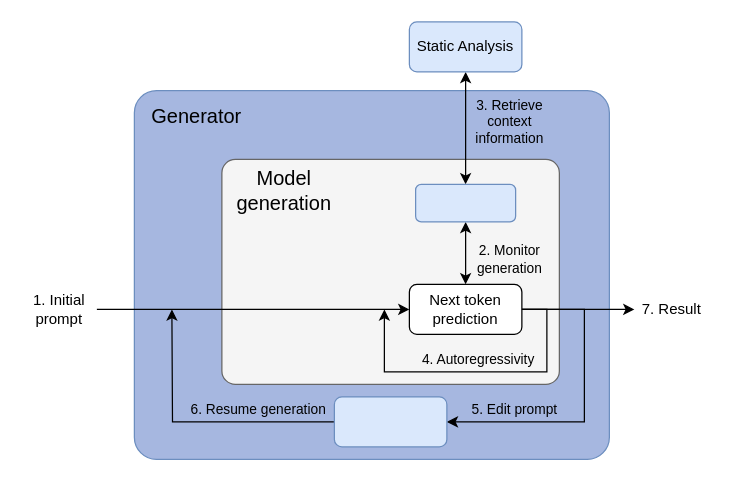
The diagram is 730 pixels wide and 481 high, and some of its shapes have lost their labels. Each missing label, with the centre of its shape:
"Monitor" goes at (465,202).
"Prompt Editor" goes at (390,421).
